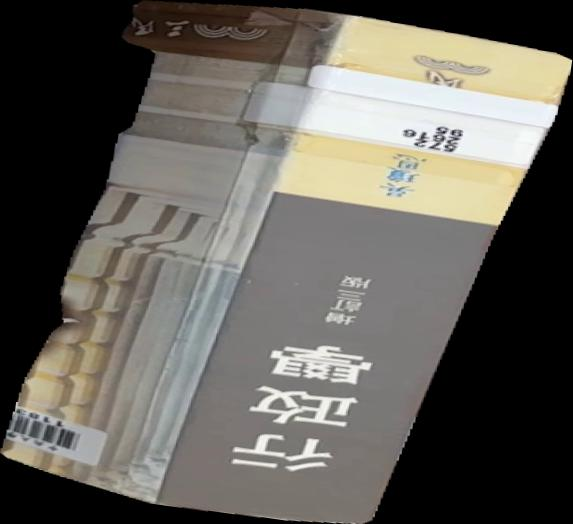reverse: (1, 1, 573, 524)
